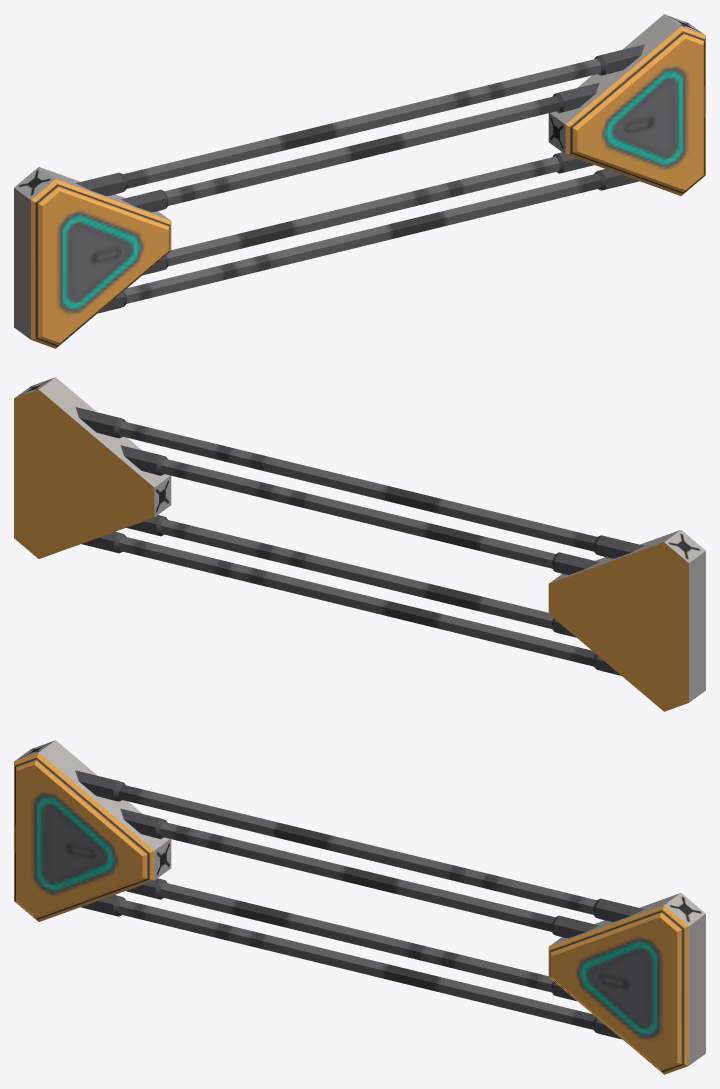
File: SM_Bld_Wall_Trim_03.fbx
The picture shows the model from 3 angles, top to bottom: view 1: azimuth 30°, elevation 25°; view 2: azimuth 150°, elevation 25°; view 3: azimuth 330°, elevation 25°; orthographic projection.
Parts seen in each view (by area): view 1: SM_Bld_Wall_Trim_03; view 2: SM_Bld_Wall_Trim_03; view 3: SM_Bld_Wall_Trim_03.
Part boxes in pixels (left/top/right/bottom): SM_Bld_Wall_Trim_03: left=14, top=14, right=705, bottom=348; SM_Bld_Wall_Trim_03: left=14, top=377, right=705, bottom=711; SM_Bld_Wall_Trim_03: left=14, top=740, right=705, bottom=1074.
Size of the model in its own units: 250 by 60.05 by 13.67.
